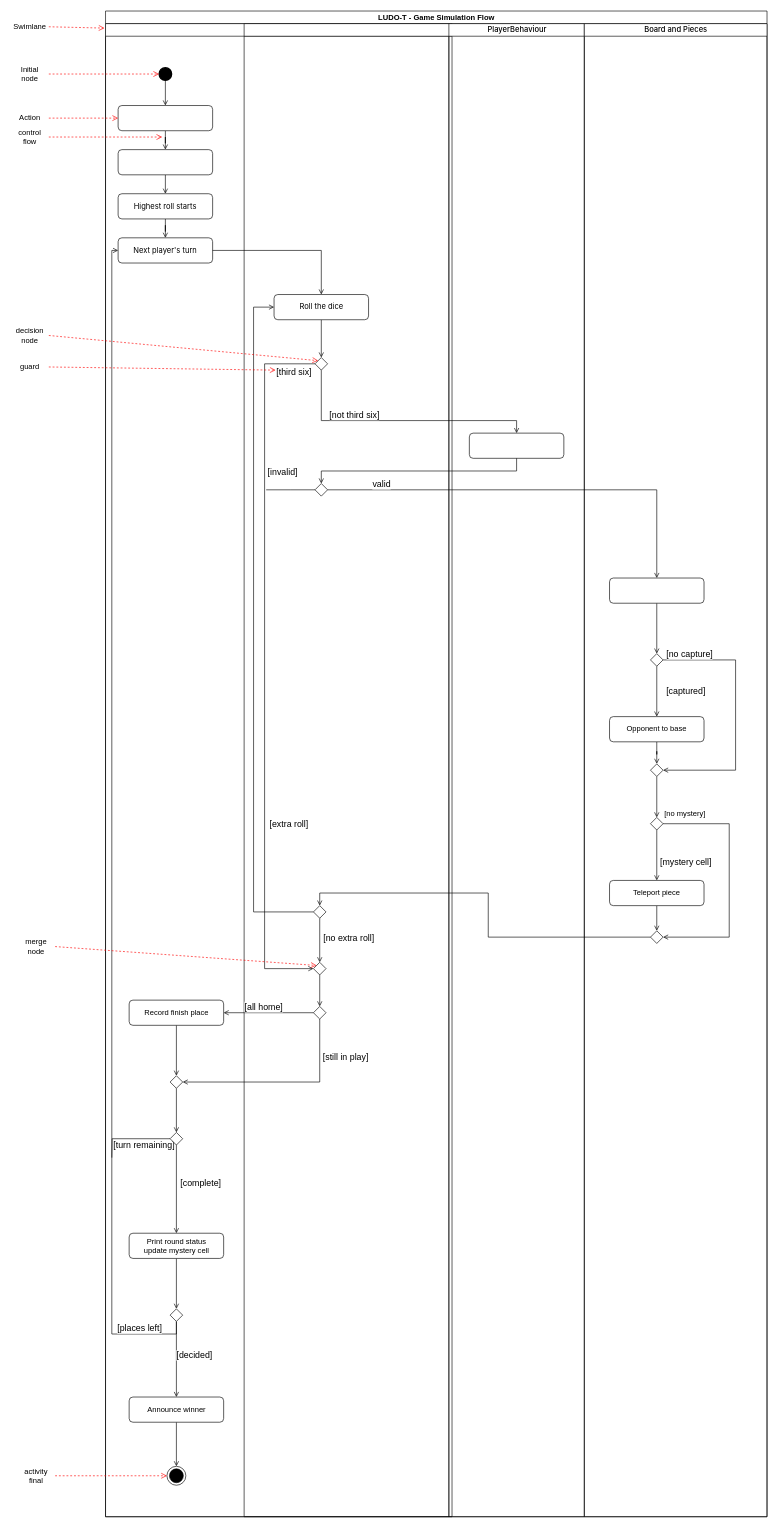
This 778x1528 diagram has some shape labels left out. The shapes that lost their labels are listed below. From the top down, each one's box as (x1, y1, x2, y2) in pixels, then its label:
(117, 105, 213, 131): Announce all pieces
(117, 149, 213, 175): Each player roll
(469, 432, 564, 458): Choose move by behaviour
(609, 577, 704, 603): Move the piece
(105, 23, 449, 1517): GameEngine
(243, 23, 452, 1517): TurnService
